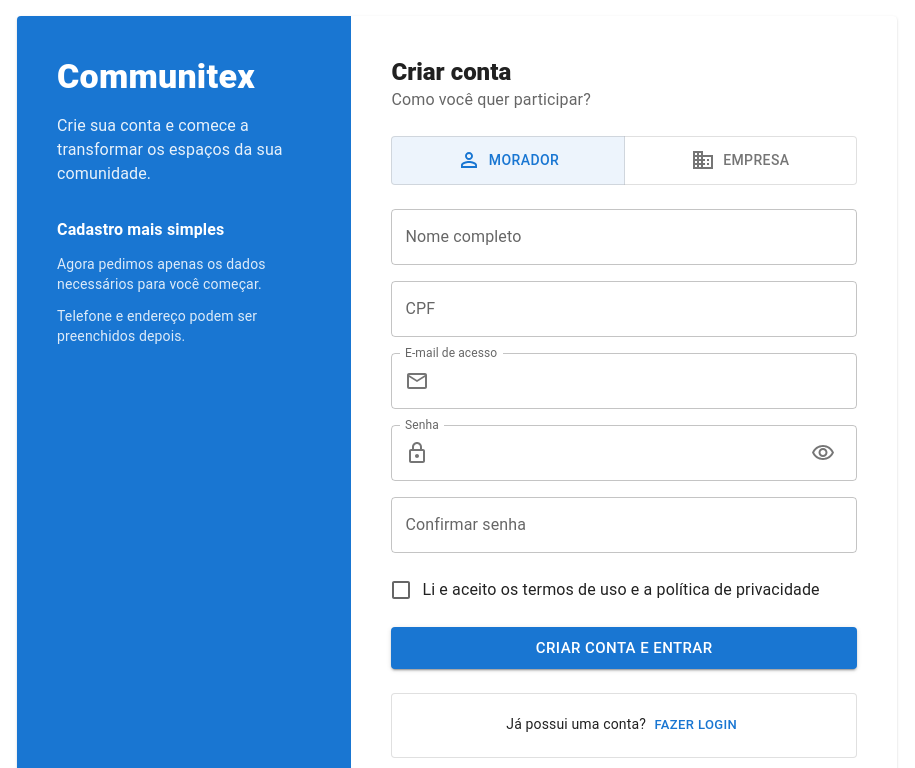
Test: shows structured server errors next to their fields
Type "Maria Silva" into the field labelled "Nome completo" at (624, 236), box [391,208,857,264]
Type "52998224725" into the field labelled "CPF" at (624, 308), box [391,280,857,336]
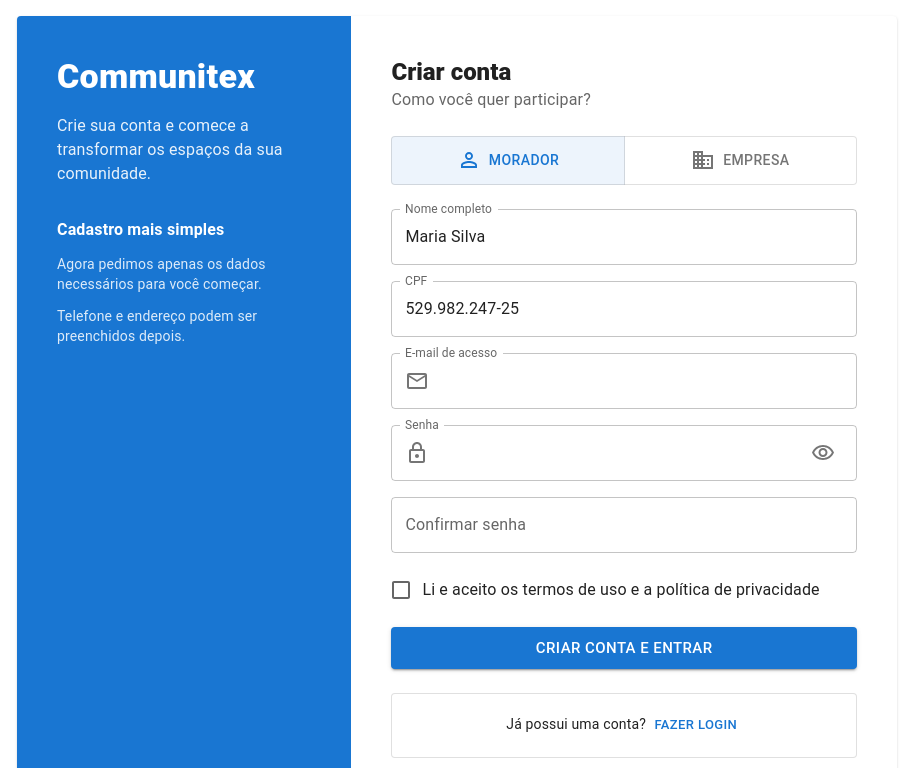
Type "maria@email.com" into the field labelled "E-mail de acesso" at (647, 380), box [437,352,857,408]
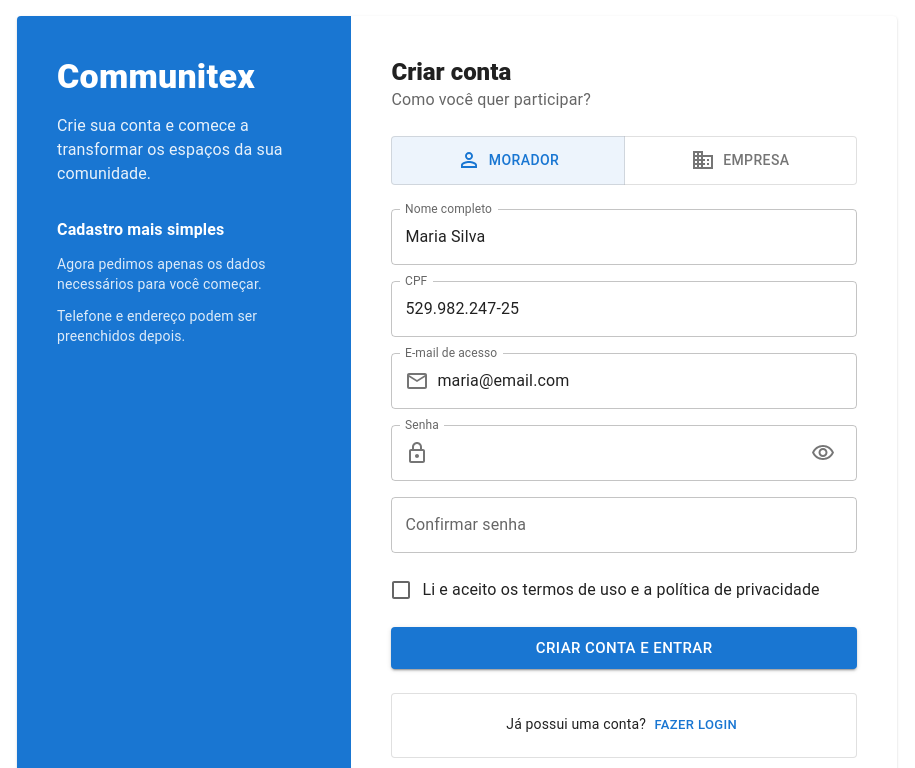
Type "Senha@123" into the password field labelled "Senha" at (616, 452), box [437,424,795,480]
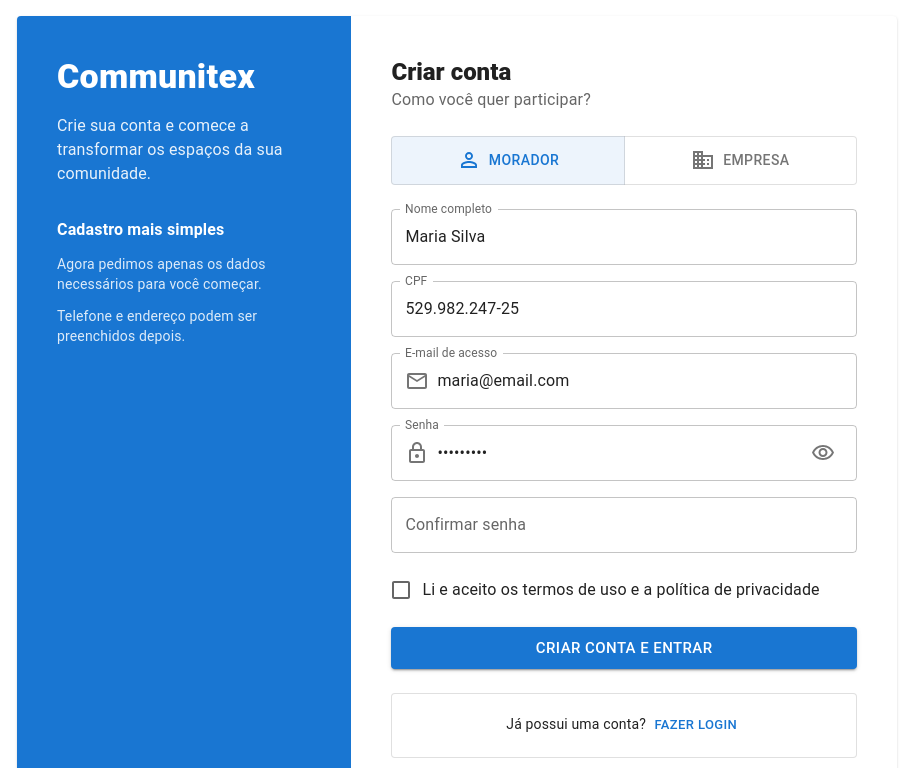
Type "Senha@123" into the password field labelled "Confirmar senha" at (624, 524), box [391,496,857,552]
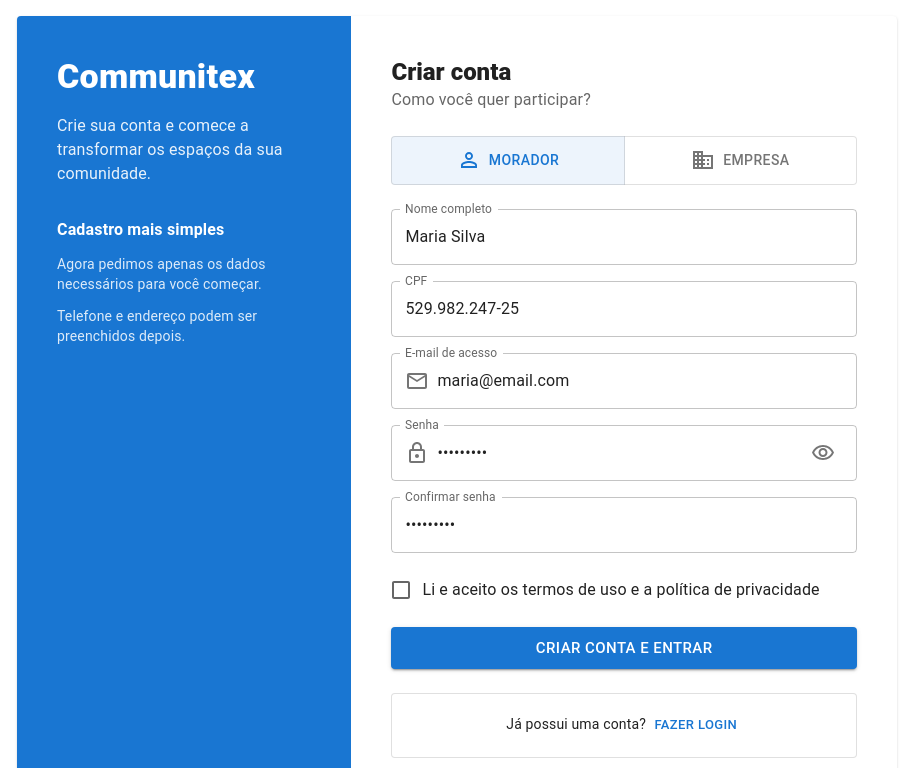
Click the checkbox at (605, 590), box [389,578,820,602]
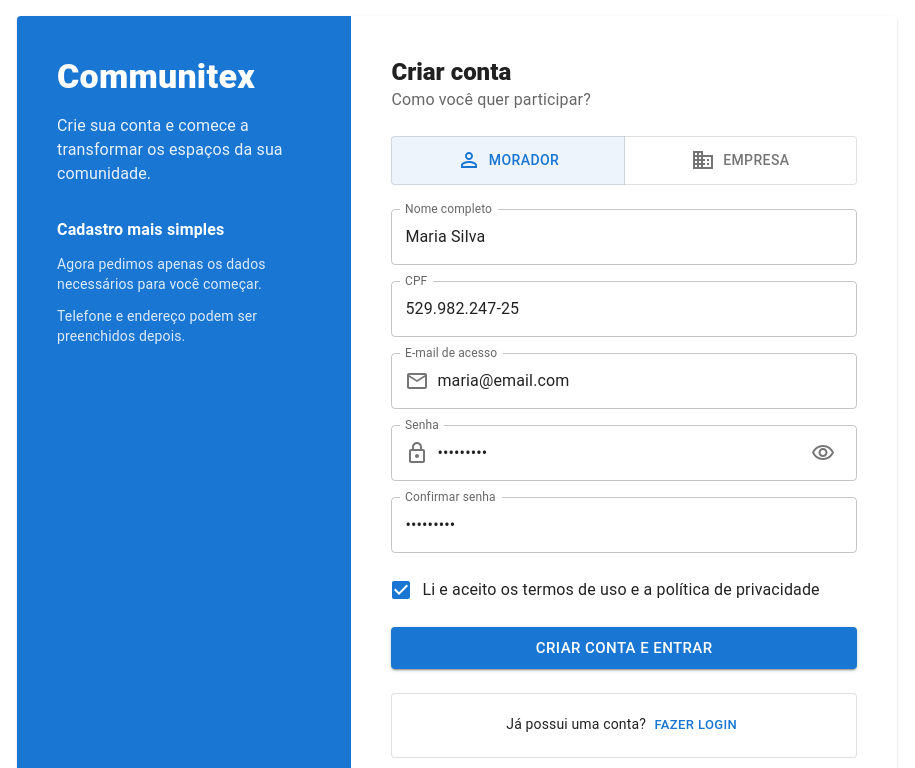
Click the button "Criar conta e entrar" at (624, 648), box [391,626,857,669]
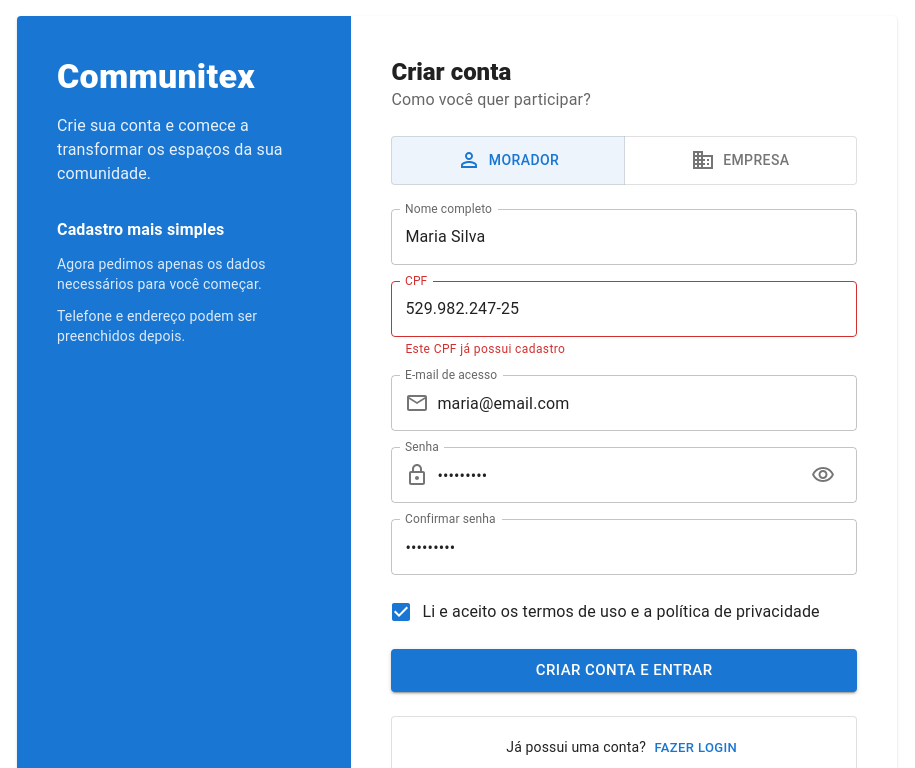
Result: the text "Este CPF já possui cadastro" is shown at [405,342,565,356]
